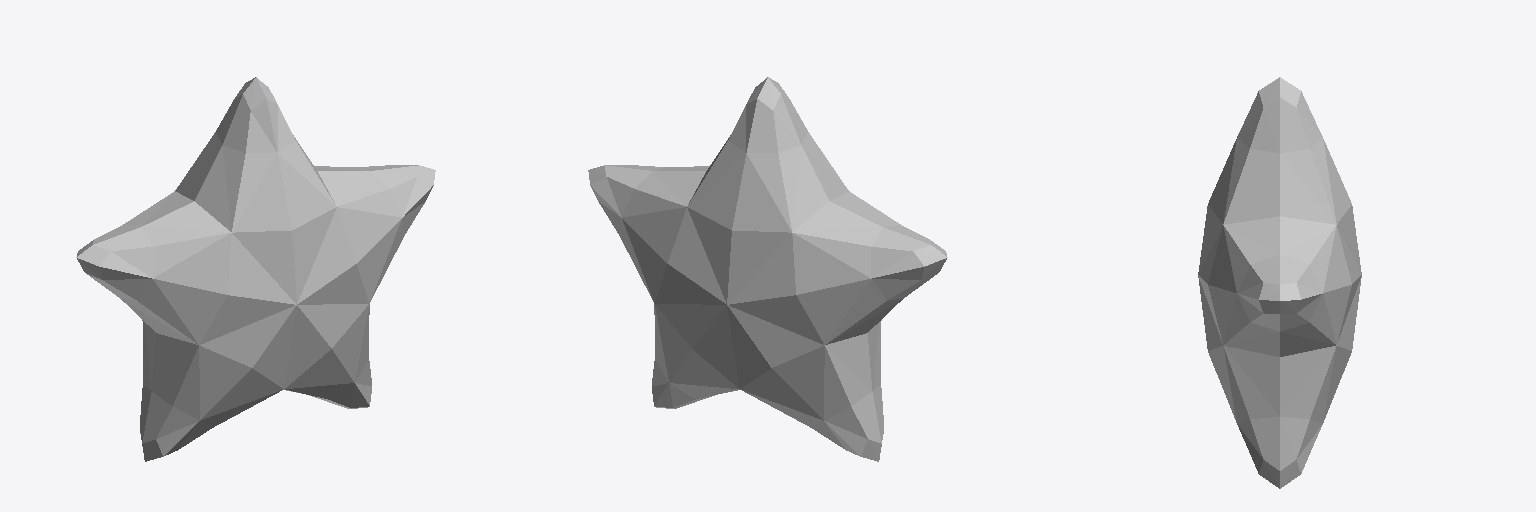
Rendered from star.obj.
3 views of the same model, side by side, from view 1: azimuth 30°, elevation 25°; view 2: azimuth 150°, elevation 25°; view 3: azimuth 270°, elevation 25° (orthographic).
Visible parts, largest first — view 1: Star_Cylinder.017; view 2: Star_Cylinder.017; view 3: Star_Cylinder.017.
Boxes of the visible parts, <box> form: Star_Cylinder.017: <box>76,77,435,461</box>; Star_Cylinder.017: <box>588,77,947,461</box>; Star_Cylinder.017: <box>1198,77,1361,488</box>.
Bounding box in the file's own units: 0.9319 × 0.8863 × 0.3675.